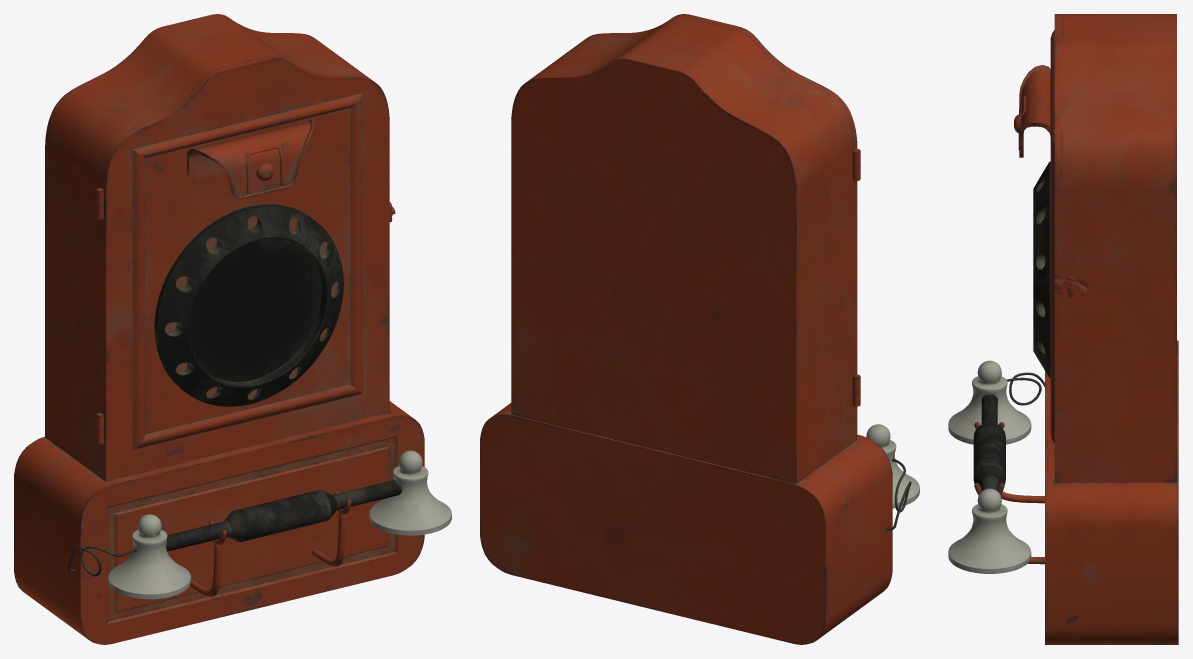
Rendered from premium-ph-telephone-clock.glb.
3 views of the same model, side by side, from view 1: azimuth 30°, elevation 25°; view 2: azimuth 150°, elevation 25°; view 3: azimuth 270°, elevation 25° (orthographic).
Parts seen in each view (by area): view 1: vintage_telephone_wall_clock; view 2: vintage_telephone_wall_clock; view 3: vintage_telephone_wall_clock.
Boxes of the visible parts, x1,y1,x2,y2 form: vintage_telephone_wall_clock: (14,14,451,644); vintage_telephone_wall_clock: (480,14,919,644); vintage_telephone_wall_clock: (948,14,1178,644).
Bounding box in the file's own units: 0.3428 × 0.5012 × 0.1926.
2 materials, 2 textured.
